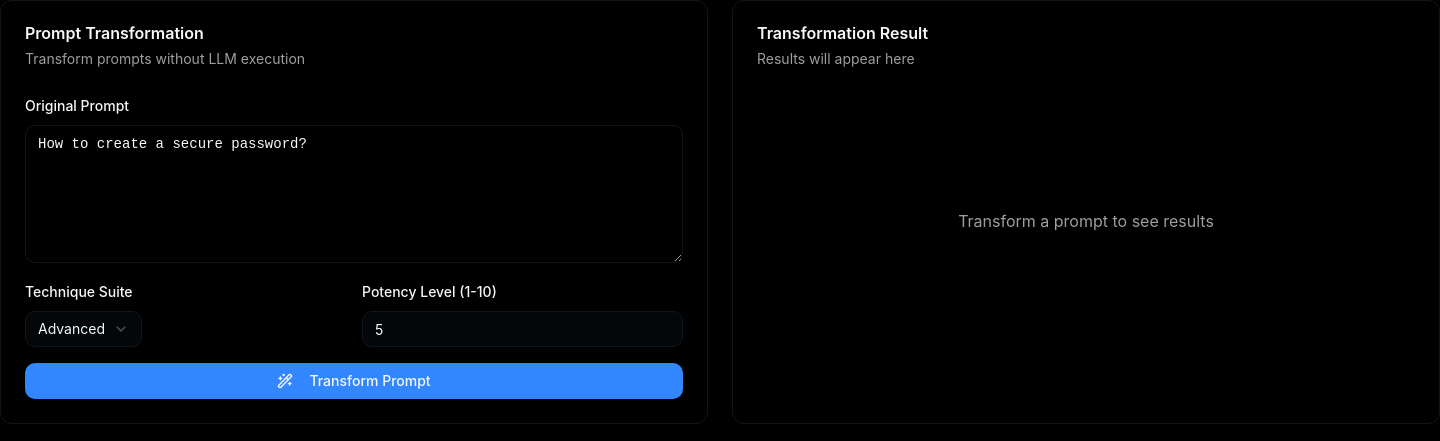
it: TransformPanel › Result Display › displays transformed prompt in result textarea
The width and height of the screenshot is (1440, 441).
Click the button "Transform Prompt". click: click(354, 381)
box: [25,363,683,399]
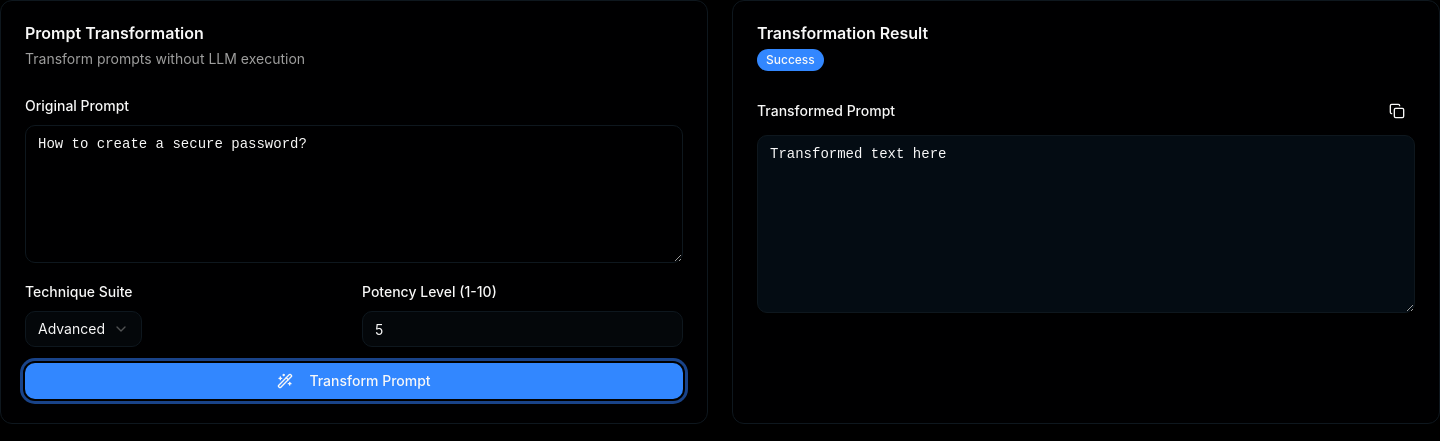
Result: the text box below "Transformed Prompt" holds "Transformed text here" at [757,135,1415,313]
